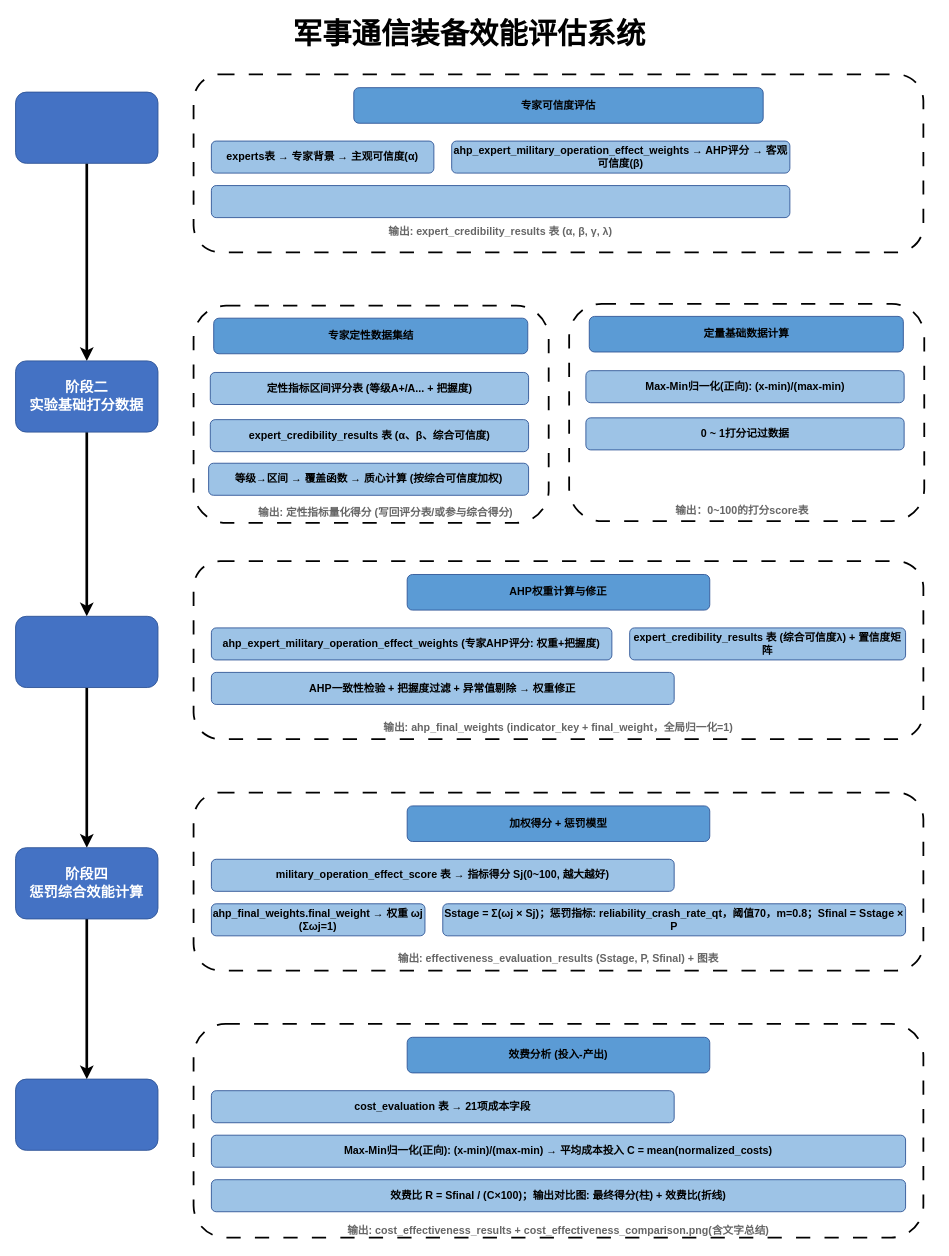
This 949x1256 diagram has some shape labels left out. The shapes that lost their labels are listed below. From the top down, each one's centre as x and y in pixels, then its label:
At (86,127): "阶段一 专家可信度评估".
At (500,201): "把握度 → 综合可信度(γ) → 专家最终可信度(λ)".
At (86,651): "阶段三 AHP最终权重计算".
At (86,1114): "阶段五 成本归一化与效费比".
